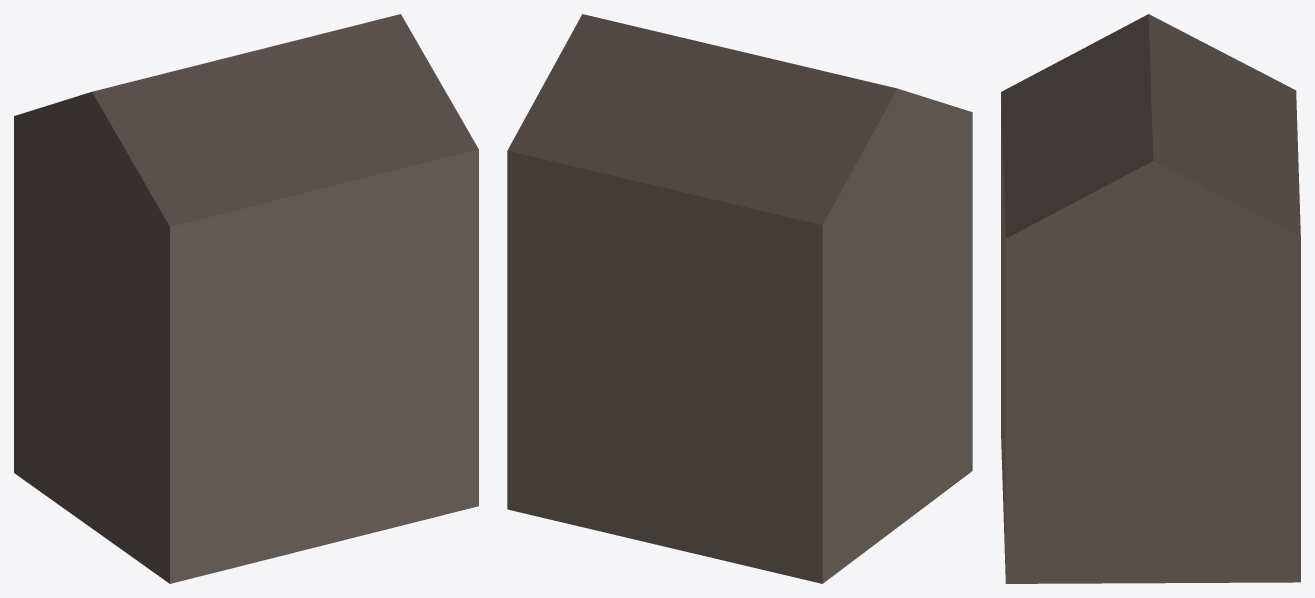
3 renders of one model, left to right at view 1: azimuth 30°, elevation 25°; view 2: azimuth 150°, elevation 25°; view 3: azimuth 270°, elevation 25°, orthographic. The views are drawn at different scales.
Visible parts, largest first — view 1: HP-w1424106478; view 2: HP-w1424106478; view 3: HP-w1424106478.
Part boxes in pixels (x1,y1,x2,y2): HP-w1424106478: [14, 14, 478, 583]; HP-w1424106478: [507, 14, 972, 583]; HP-w1424106478: [1001, 14, 1300, 583].
Size of the model in its own units: 8.3 by 11.01 by 7.08.
